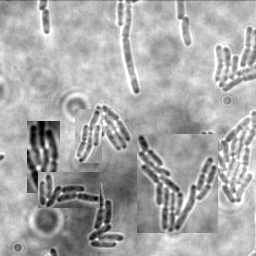Dividing: (123, 1, 142, 95), (41, 8, 52, 35)
Microcolony: (137, 134, 218, 233), (200, 109, 255, 205), (212, 25, 255, 94), (27, 121, 60, 193), (89, 184, 126, 248), (38, 172, 100, 208), (96, 103, 132, 150), (75, 109, 102, 163), (182, 16, 193, 48)
